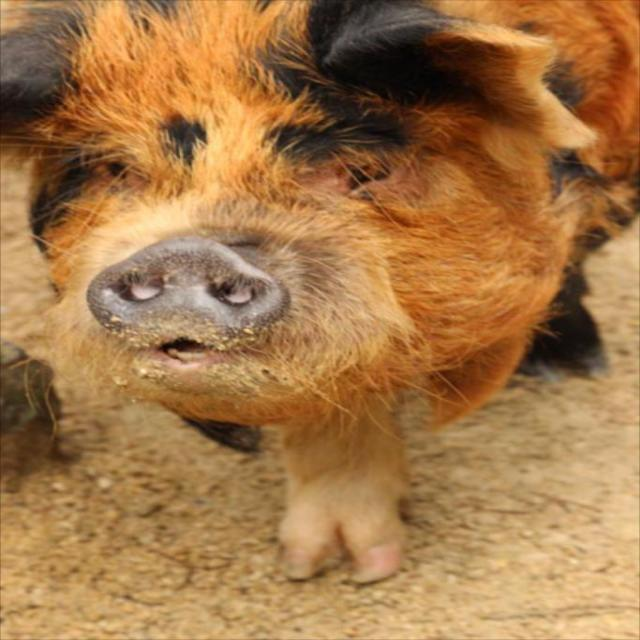Pig: (0, 0, 639, 584), (0, 337, 66, 458)
